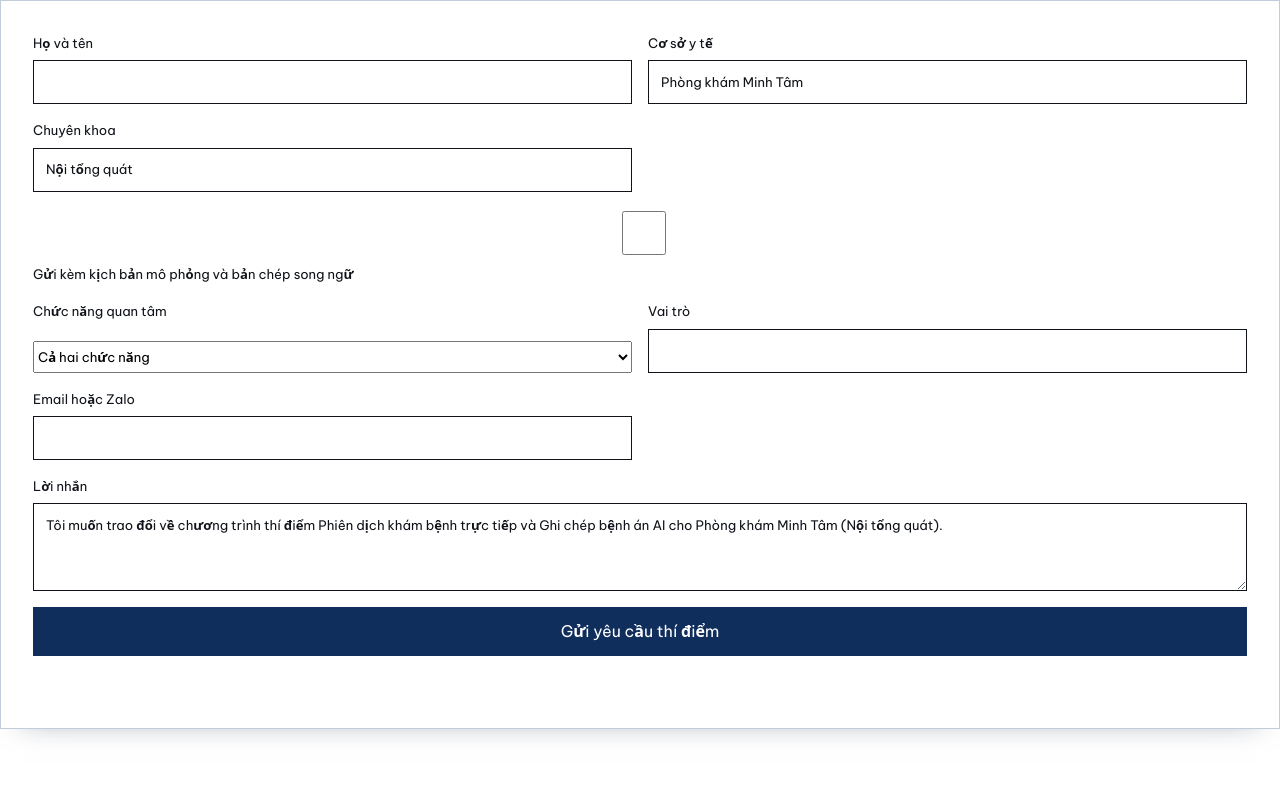
Test: LeadForm › posts the configured payload to the lead endpoint
This screenshot has width=1280, height=800.
Type "Nguyễn Minh Anh" into the field labelled "Họ và tên" at (332, 82), box [33, 60, 632, 104]
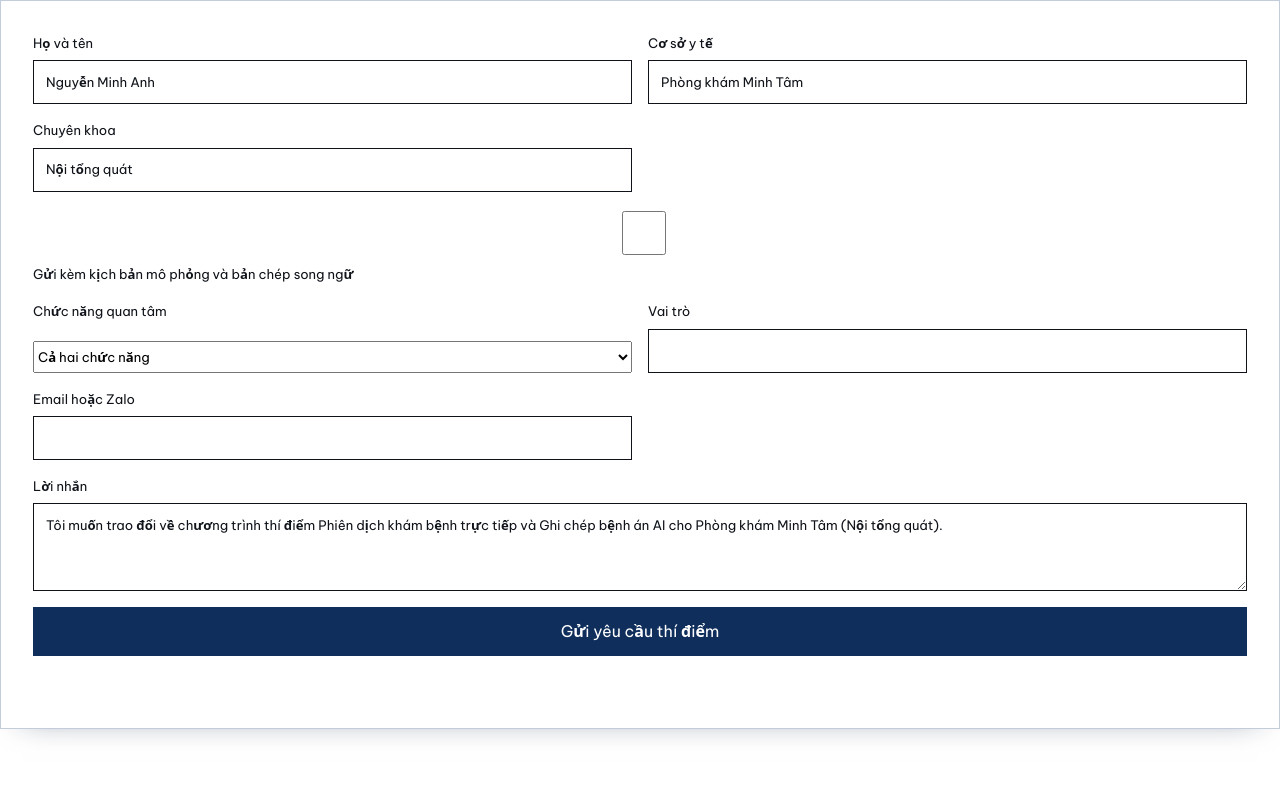
Type "Giám đốc phòng khám" into the field labelled "Vai trò" at (948, 351), box [648, 329, 1247, 373]
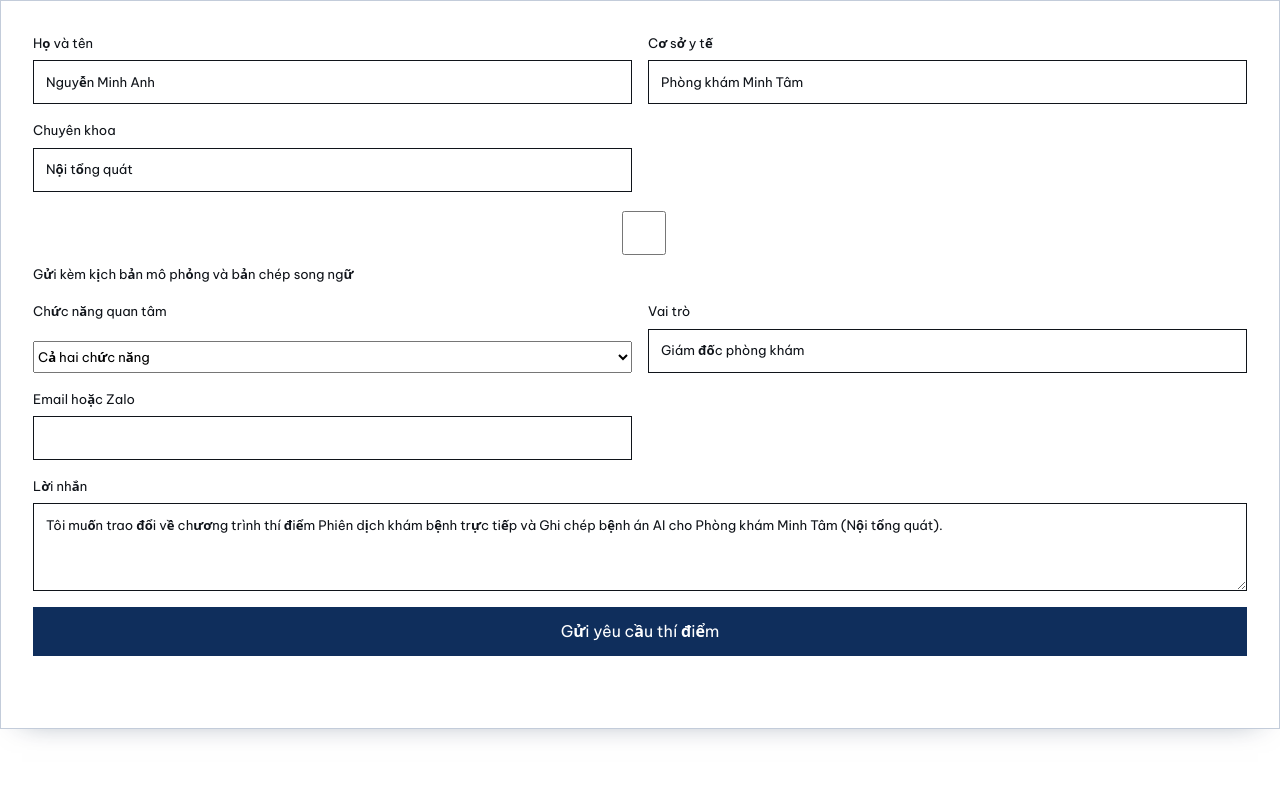
Type "minhanh@example.com" into the field labelled "Email hoặc Zalo" at (332, 438), box [33, 416, 632, 460]
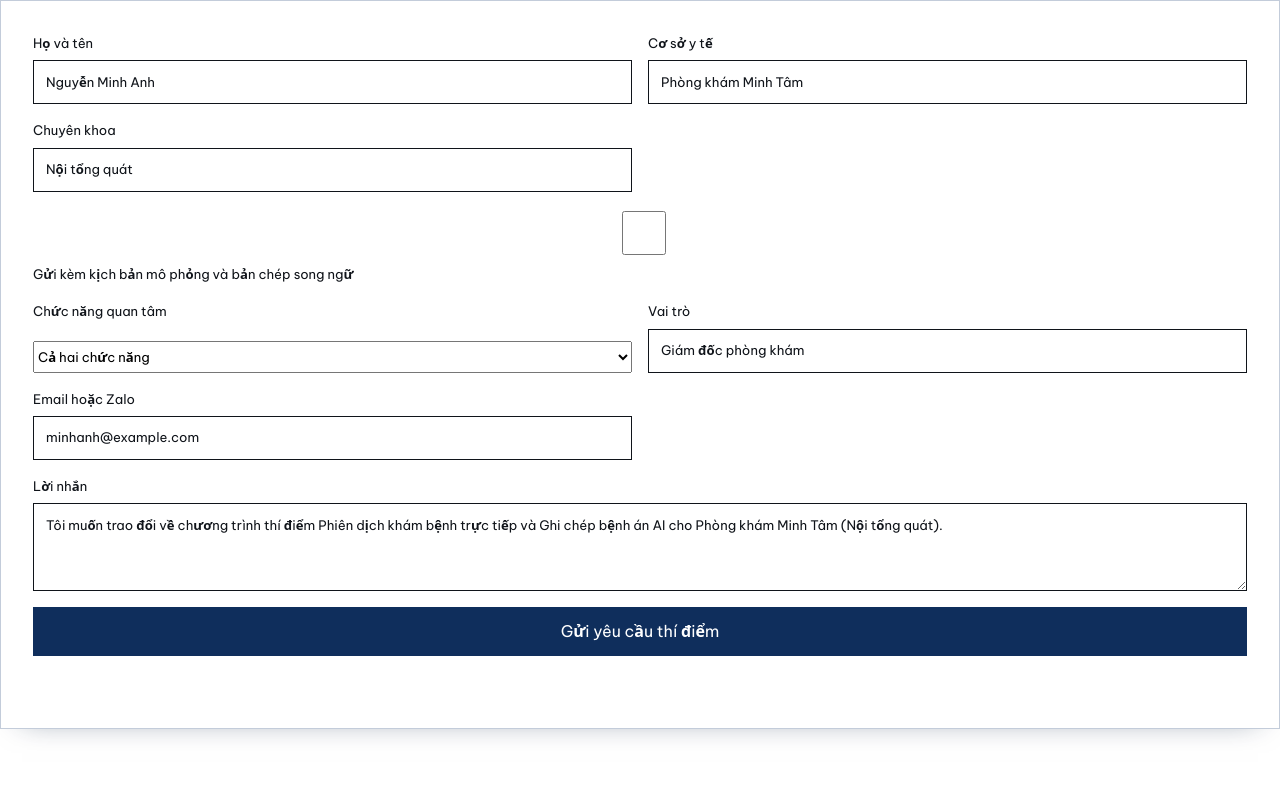
Click the button "Gửi yêu cầu thí điểm" at (640, 632), box [33, 607, 1247, 656]
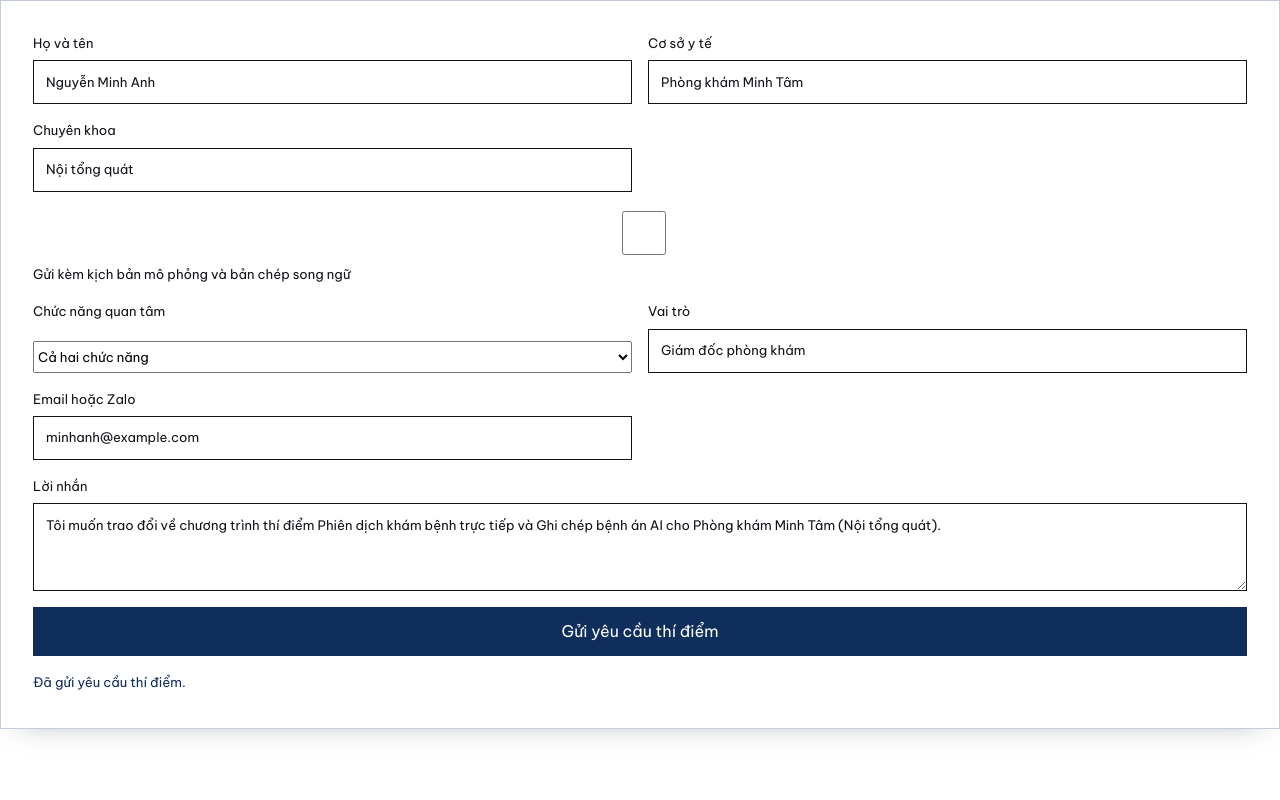
Expected: the text "Đã gửi yêu cầu thí điểm." is shown, [33, 674, 186, 690]
